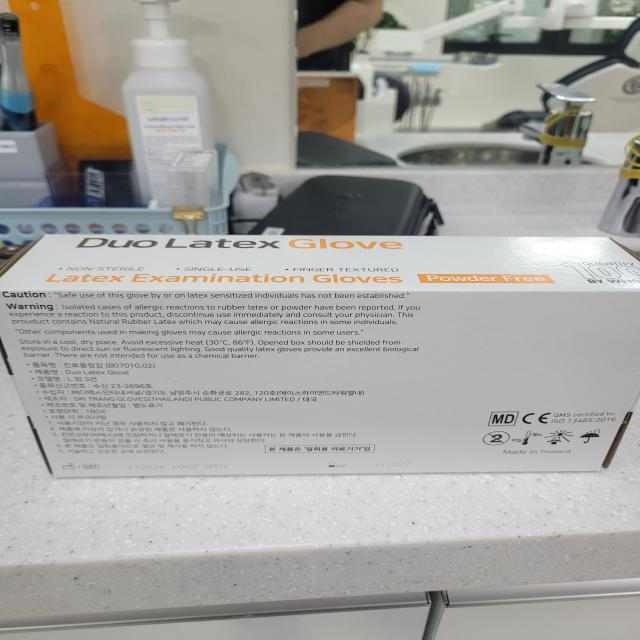glove: (0, 213, 640, 494)
